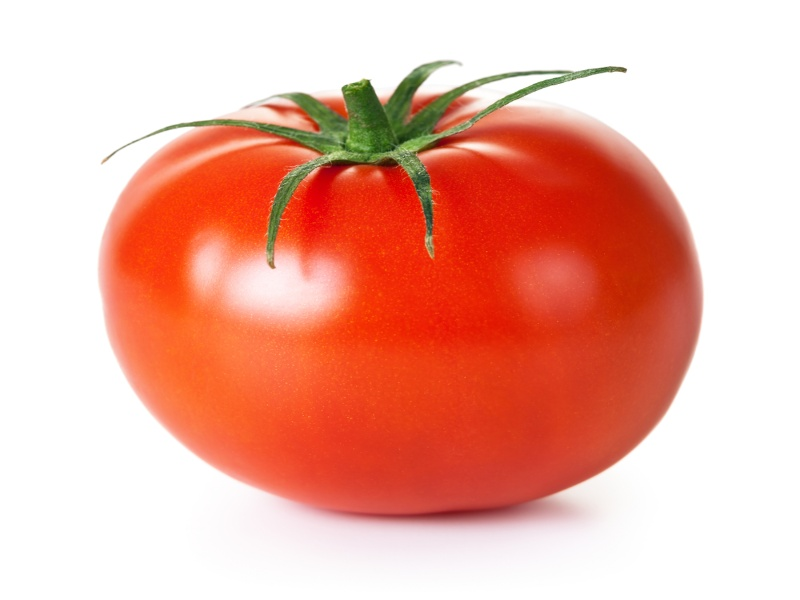Tomate: (97, 59, 704, 518)
